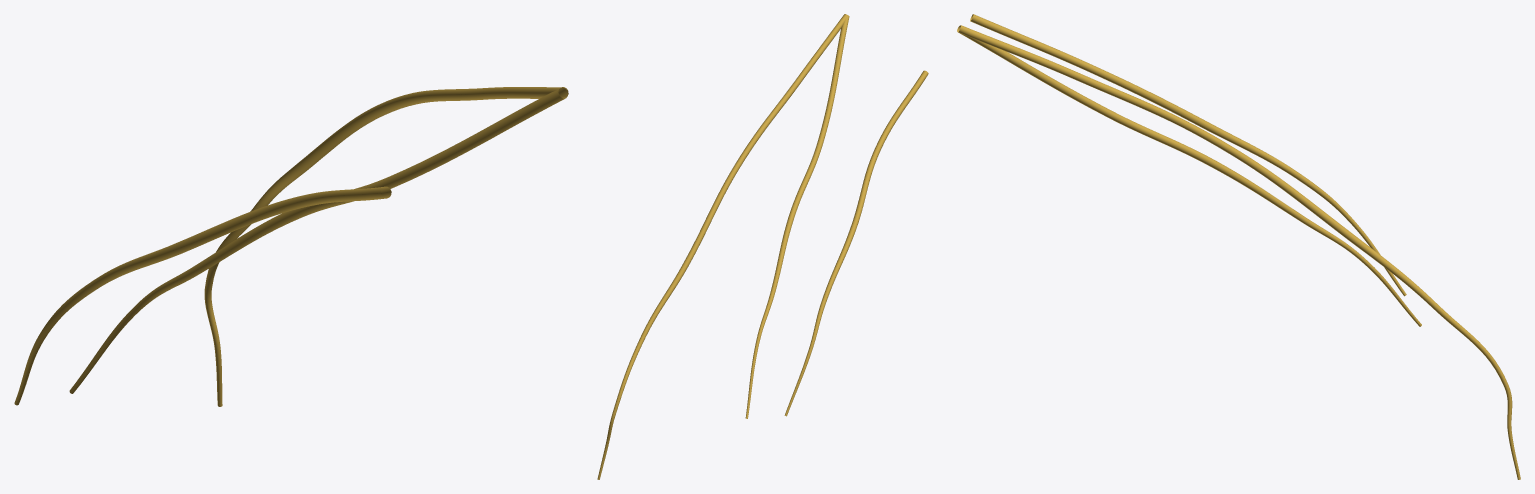
3 views of the same model, side by side, from view 1: azimuth 30°, elevation 25°; view 2: azimuth 150°, elevation 25°; view 3: azimuth 270°, elevation 25° (orthographic). The views are drawn at different scales.
Parts seen in each view (by area): view 1: 左侧尺神经指背神经; view 2: 左侧尺神经指背神经; view 3: 左侧尺神经指背神经.
Part boxes in pixels (bbox=[...]): 左侧尺神经指背神经: bbox=[14, 87, 568, 406]; 左侧尺神经指背神经: bbox=[597, 14, 928, 479]; 左侧尺神经指背神经: bbox=[957, 14, 1520, 479].
Size of the model in its own units: 0.043 by 0.0871 by 0.1037.
